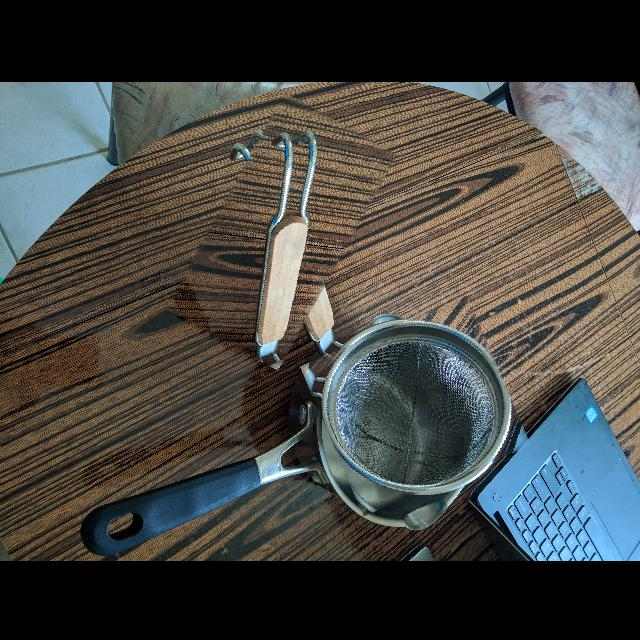Handle: (247, 116, 331, 356)
Strainer: (322, 321, 517, 490)
